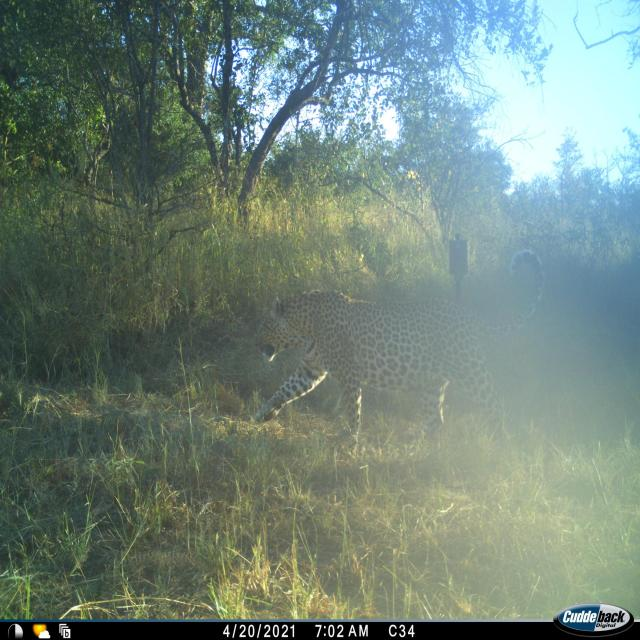Leopard: (246, 290, 518, 444)
